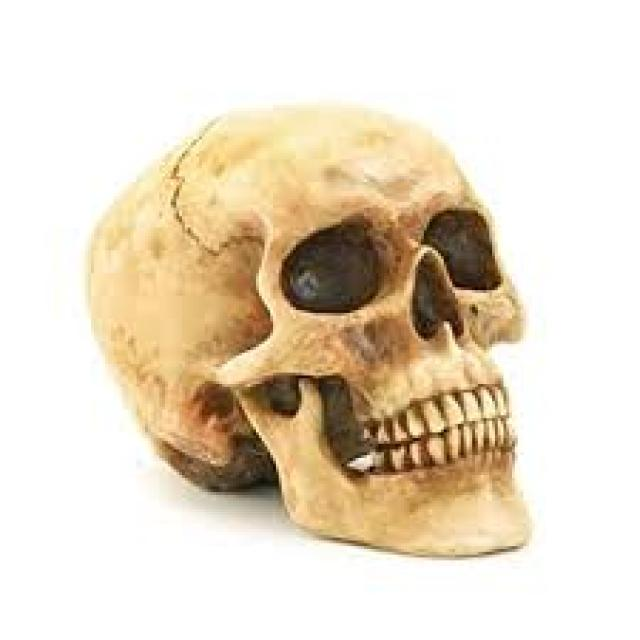skull: (77, 94, 542, 566)
